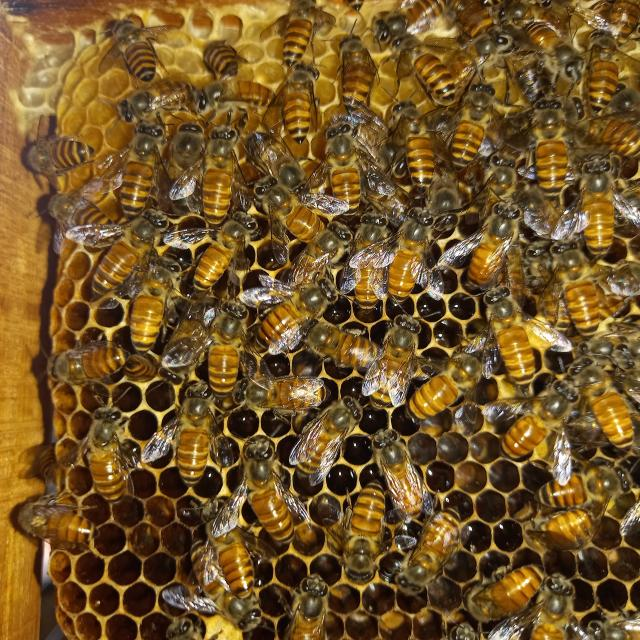honeybee: (225, 446, 296, 546), (195, 527, 262, 621), (566, 348, 636, 437), (73, 402, 133, 501), (366, 422, 432, 510), (16, 484, 91, 559), (543, 242, 606, 330), (84, 15, 169, 80), (477, 294, 538, 384), (492, 387, 570, 457), (520, 90, 572, 194), (575, 153, 629, 253), (447, 72, 491, 194), (394, 517, 460, 594), (192, 304, 246, 398), (253, 281, 332, 344), (392, 211, 446, 303), (391, 103, 439, 206), (468, 195, 517, 295), (472, 566, 543, 633), (348, 488, 394, 588), (513, 16, 579, 84), (110, 124, 160, 208), (164, 394, 211, 482), (128, 265, 174, 353), (38, 191, 107, 249), (579, 33, 625, 119), (180, 226, 253, 280), (522, 467, 620, 506), (395, 43, 456, 103), (252, 131, 316, 187), (287, 572, 338, 640), (50, 340, 123, 386), (336, 27, 379, 102), (329, 122, 364, 214), (525, 518, 614, 554), (379, 316, 417, 400), (207, 128, 242, 218), (279, 64, 323, 135), (249, 373, 325, 412), (265, 12, 325, 61), (106, 215, 165, 263), (323, 390, 356, 475), (10, 140, 90, 174), (258, 192, 324, 232), (173, 130, 203, 210), (376, 7, 449, 38), (195, 44, 254, 82), (352, 226, 386, 291), (195, 88, 272, 116), (546, 576, 580, 638), (114, 89, 182, 118)
